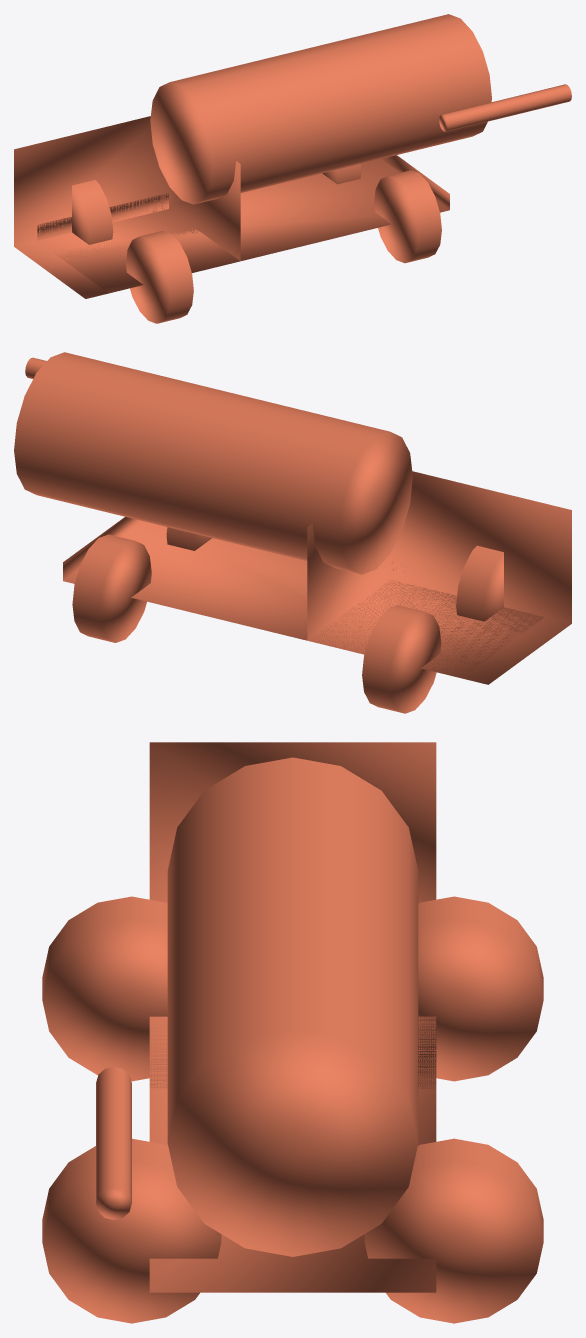
File: succao.glb
3 views of the same model, one above another, from view 1: azimuth 30°, elevation 25°; view 2: azimuth 150°, elevation 25°; view 3: azimuth 270°, elevation 25° (orthographic). The views are drawn at different scales.
Size of the model in its own units: 3.05 by 1.15 by 1.4.
